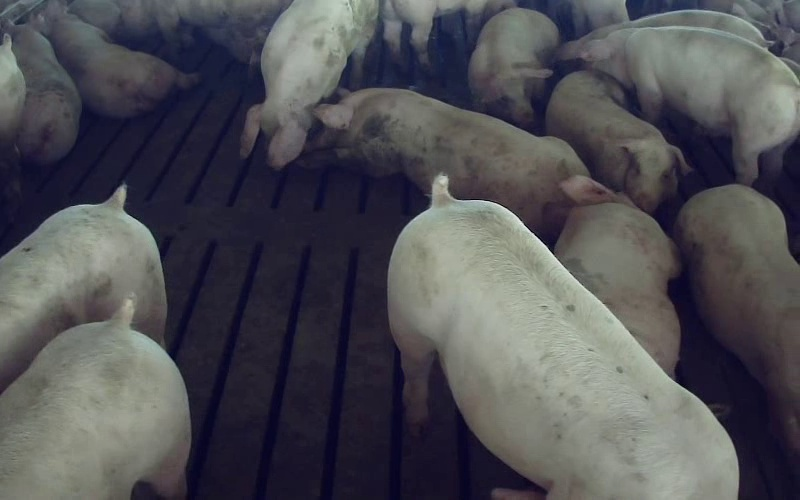pig: (388, 176, 734, 499), (297, 88, 587, 227), (0, 299, 190, 499), (675, 185, 799, 477), (581, 26, 799, 185), (0, 185, 166, 391), (545, 175, 680, 375), (546, 70, 688, 211), (43, 0, 198, 117), (2, 14, 81, 164), (468, 8, 559, 128)
